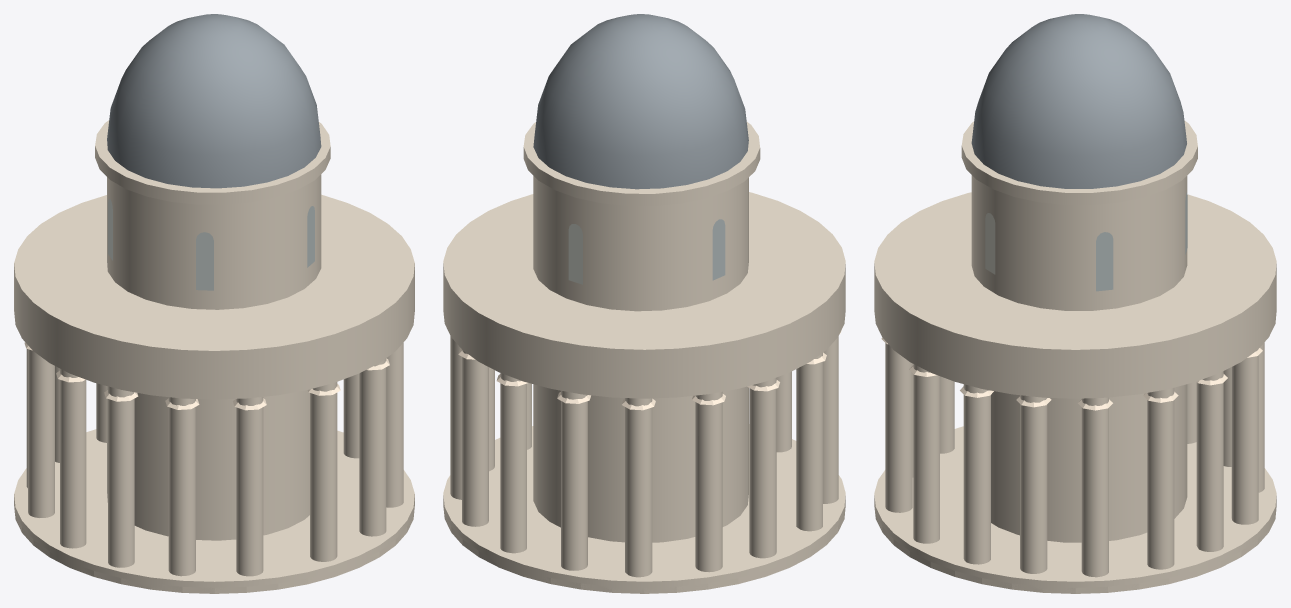
The picture shows the model from 3 angles, left to right: view 1: azimuth 30°, elevation 25°; view 2: azimuth 150°, elevation 25°; view 3: azimuth 270°, elevation 25°; orthographic projection.
Parts seen in each view (by area): view 1: stone, roof, window, trim; view 2: stone, roof, window, trim; view 3: stone, roof, window, trim.
Boxes of the visible parts, x1,y1,x2,y2 form: stone: [14, 120, 414, 593]; roof: [107, 14, 321, 188]; window: [108, 198, 314, 290]; trim: [24, 342, 389, 410]; stone: [443, 122, 845, 593]; roof: [533, 14, 748, 189]; window: [568, 219, 725, 284]; trim: [458, 330, 841, 410]; stone: [874, 120, 1276, 593]; roof: [971, 14, 1186, 188]; window: [985, 193, 1187, 291]; trim: [881, 338, 1262, 410].
Size of the model in its own units: 14.93 by 20 by 14.95.
